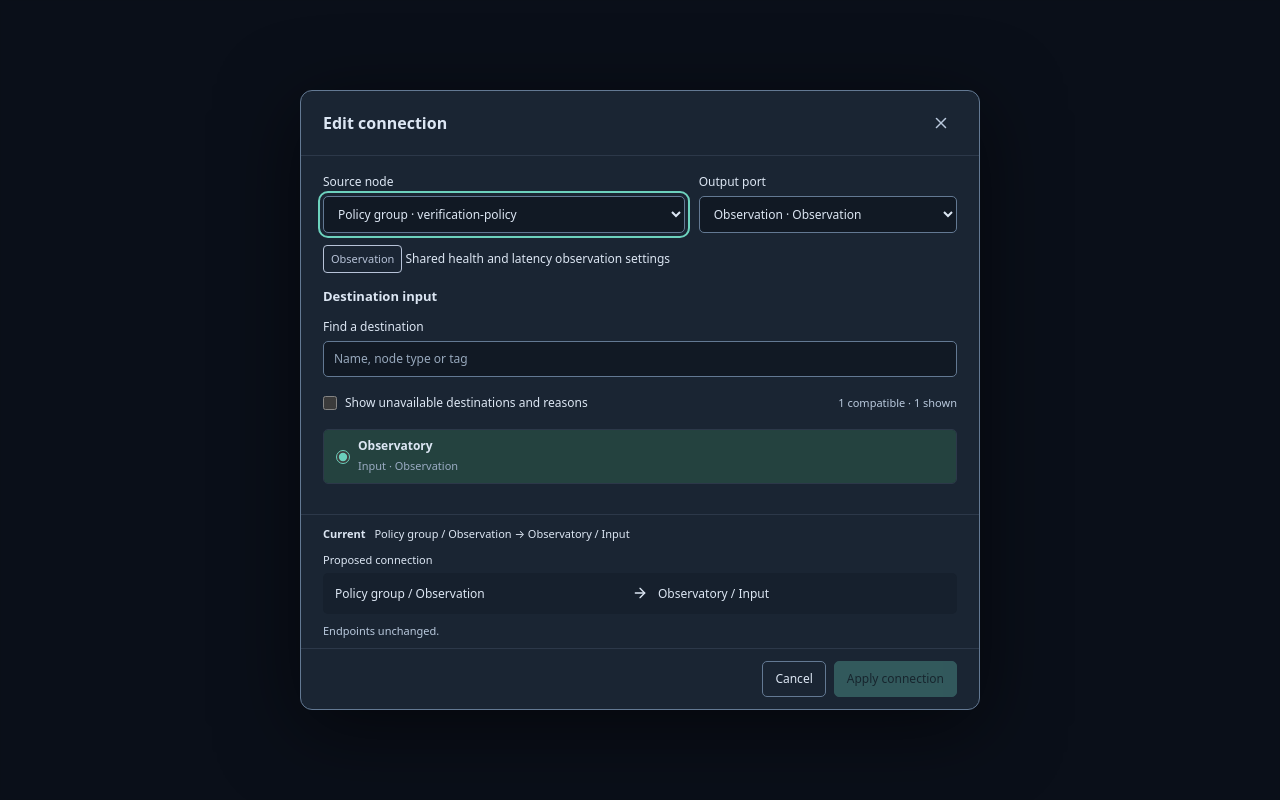
Test: explains incompatible destinations in text, including observatory settings instead of traffic
The width and height of the screenshot is (1280, 800).
Click the checkbox labelled "Show unavailable destinations and reasons": (330, 403) [323,396,337,410]
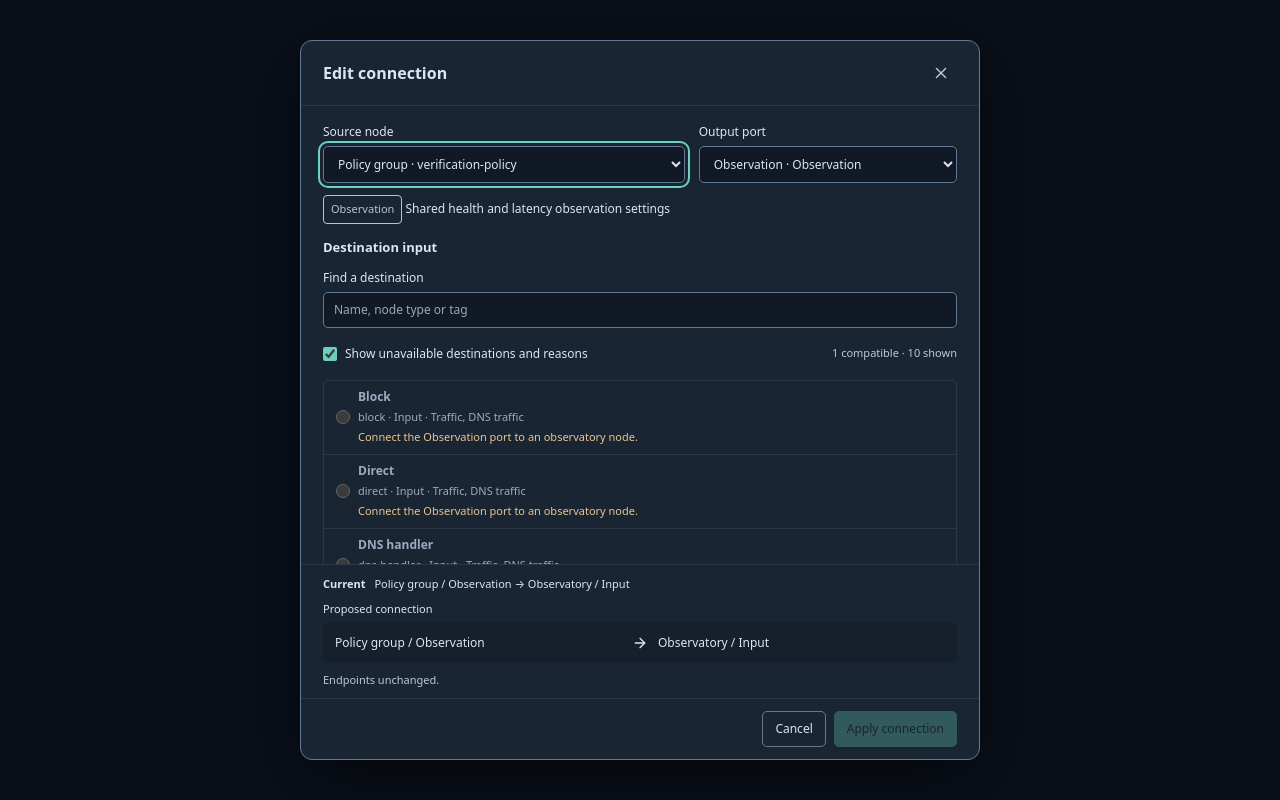
Result: the 2nd radio button is disabled at [336,484,350,498]
Result: the text "Connect the Observation port to an observatory node." is shown at [358,429,638,444]
